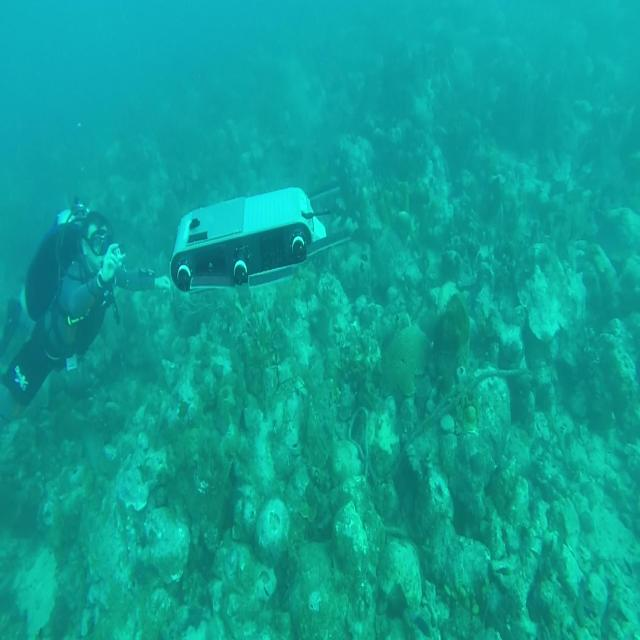human: (1, 199, 170, 422)
